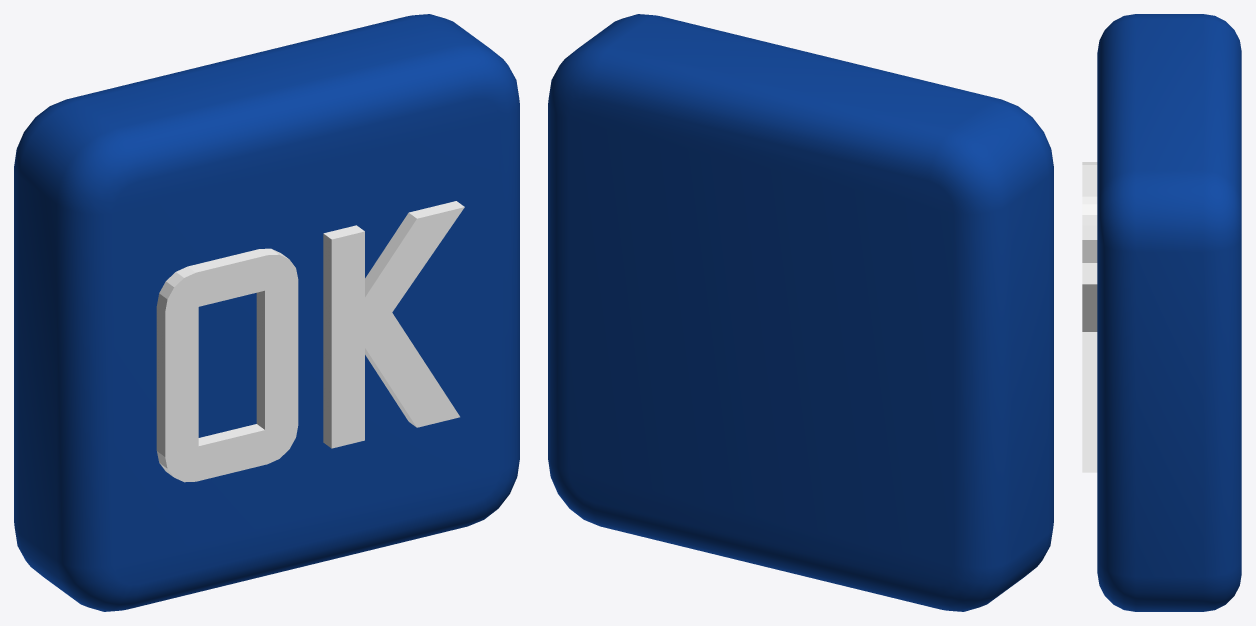
Rendered from ok_button.glb.
3 views of the same model, side by side, from view 1: azimuth 30°, elevation 25°; view 2: azimuth 150°, elevation 25°; view 3: azimuth 270°, elevation 25° (orthographic). The views are drawn at different scales.
Visible parts, largest first — view 1: Cube.6644; view 2: Cube.6644; view 3: Cube.6644.
Part boxes in pixels (box(x1,y1,x2,y2)): Cube.6644: box(14, 14, 519, 611); Cube.6644: box(548, 14, 1053, 611); Cube.6644: box(1082, 14, 1241, 611).
Bounding box in the file's own units: 2.2 × 2.2 × 0.73.
Materials: 1 (1 with a texture image).
